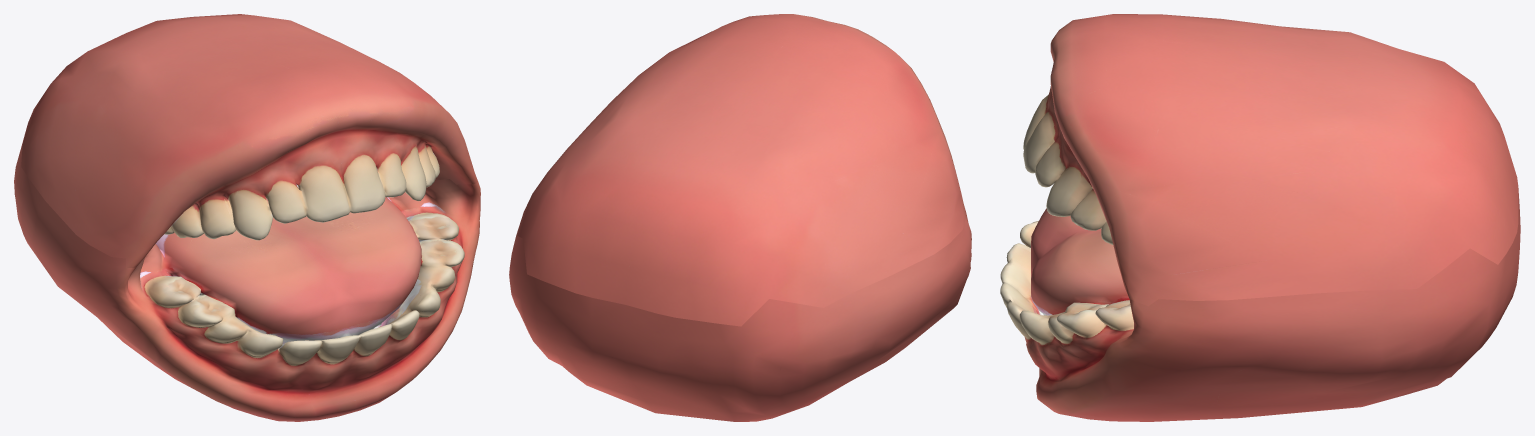
The model's file is Mouth.fbx.
3 views of the same model, side by side, from view 1: azimuth 30°, elevation 25°; view 2: azimuth 150°, elevation 25°; view 3: azimuth 270°, elevation 25° (orthographic). The views are drawn at different scales.
Visible parts, largest first — view 1: Mesh_0.001, Mesh_0; view 2: Mesh_0.001, Mesh_0; view 3: Mesh_0.001, Mesh_0.
Part boxes in pixels (bbox=[...]): Mesh_0.001: bbox=[21, 14, 477, 267]; Mesh_0: bbox=[14, 128, 480, 421]; Mesh_0.001: bbox=[516, 14, 968, 326]; Mesh_0: bbox=[509, 219, 971, 421]; Mesh_0.001: bbox=[1023, 14, 1518, 306]; Mesh_0: bbox=[1000, 188, 1520, 421].
Size of the model in its own units: 1.84 by 1.48 by 1.94.
1 material, 1 textured.
